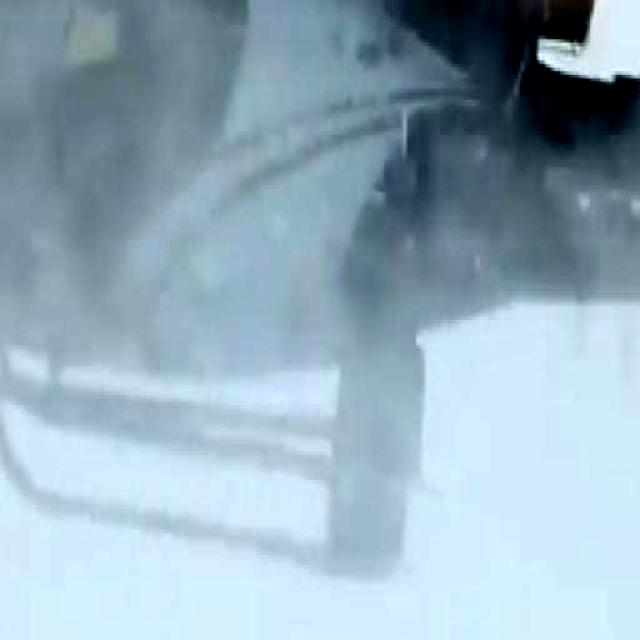drone: (0, 0, 640, 572)
